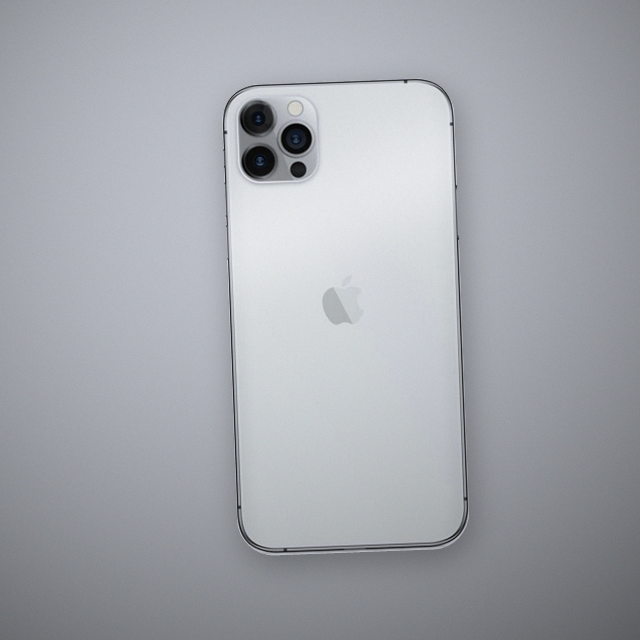iphone_12pro_silver: (177, 47, 535, 588), (221, 86, 331, 184)
